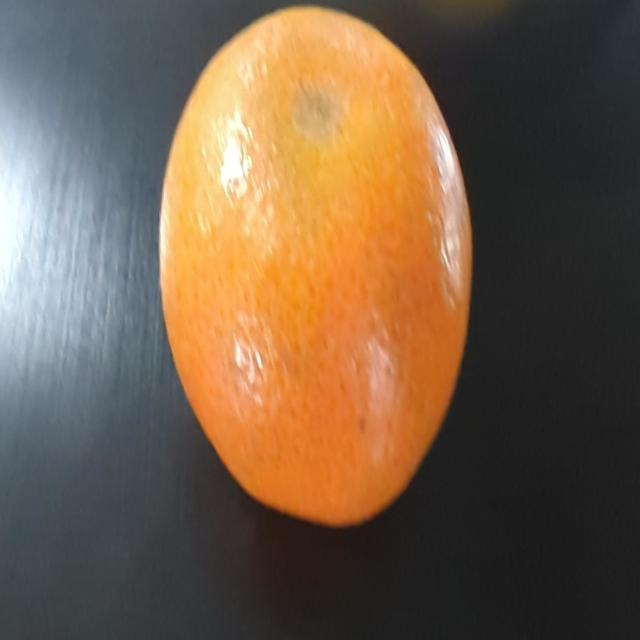Jeruk Mandarin: (158, 24, 474, 542)
